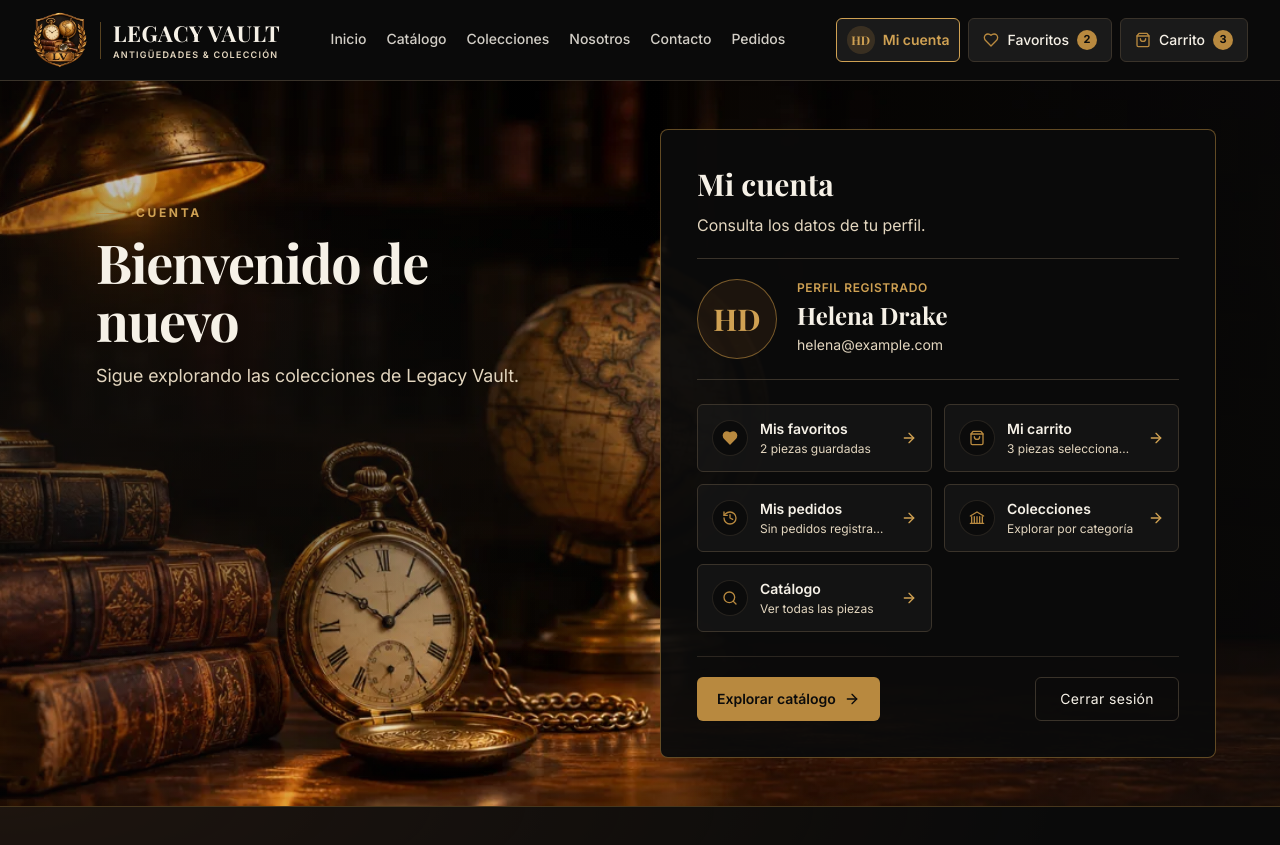
Test: Pantalla de Mi cuenta (LoginPage) › muestra cuenta autenticada con iniciales, correo y contadores dinámicos sincronizados
Expected: the heading "Mi cuenta" is shown, [697,164,834,204]
Expected: the text "Perfil registrado" is shown, [797,280,948,296]
Navegación a favoritos
Click the link "Mis favoritos 2 piezas guardadas".
click(814, 438)  # box [697,404,932,472]
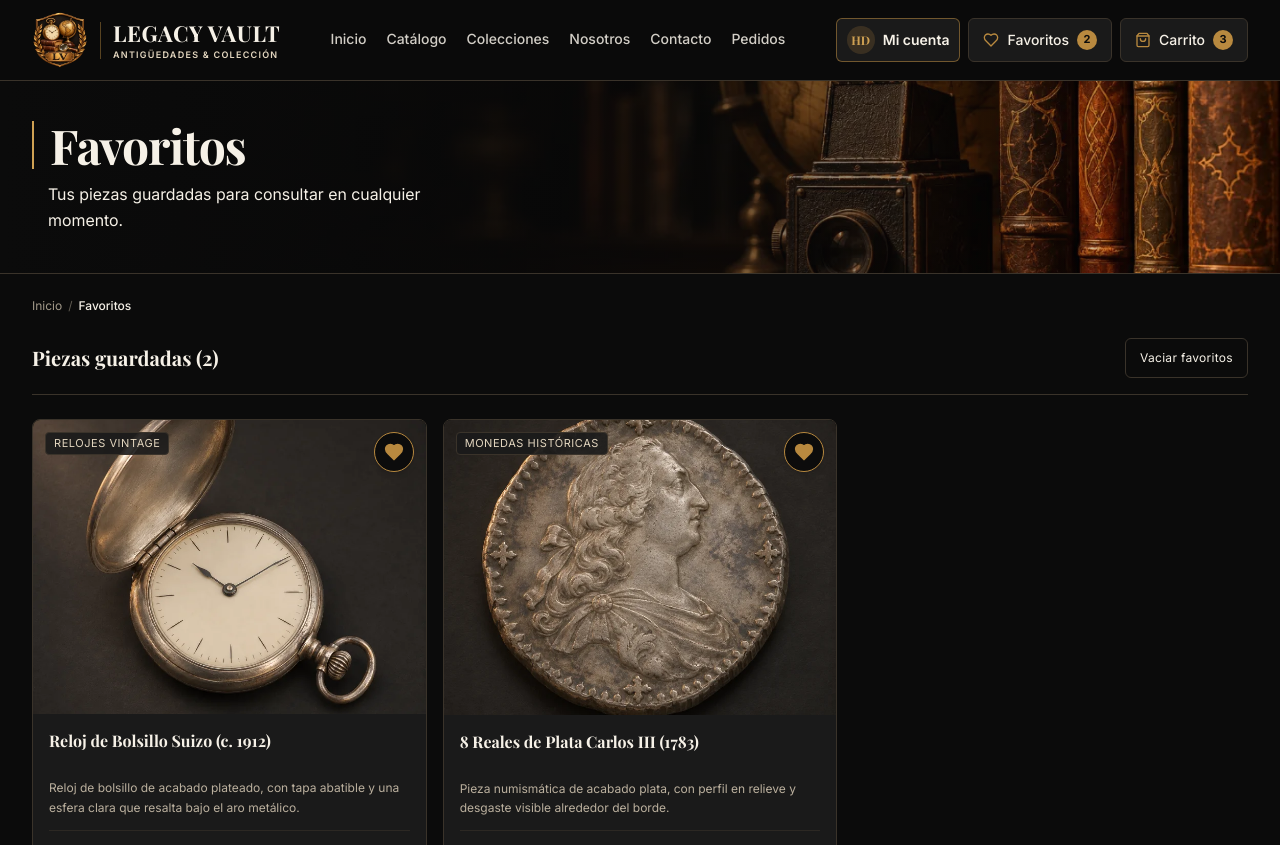
Now the heading "Favoritos" is shown, box [32,121,1248,169]
